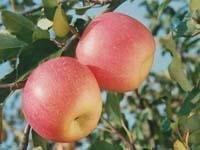apple: (74, 11, 157, 106), (20, 57, 101, 142)
